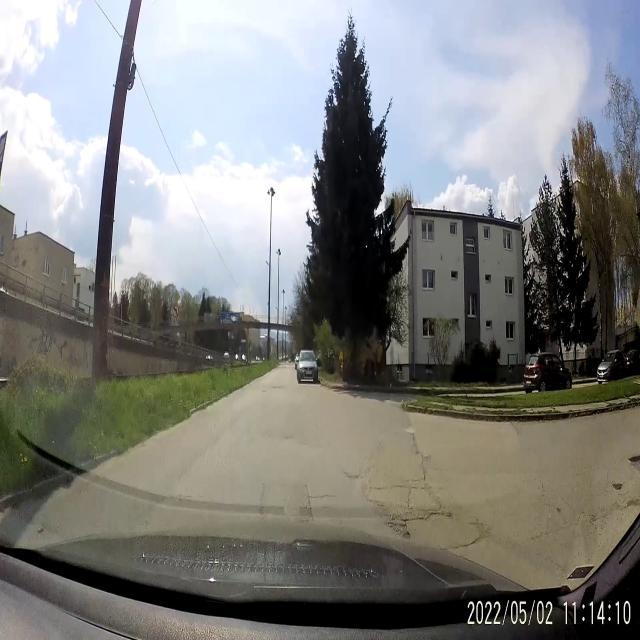Pothole: (382, 502, 452, 542), (408, 428, 428, 488), (340, 463, 368, 485)
